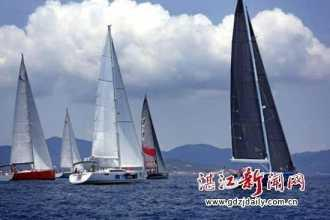fanchuan: (225, 1, 300, 180), (67, 16, 142, 186), (1, 48, 51, 181), (142, 94, 171, 179), (57, 107, 82, 177)
